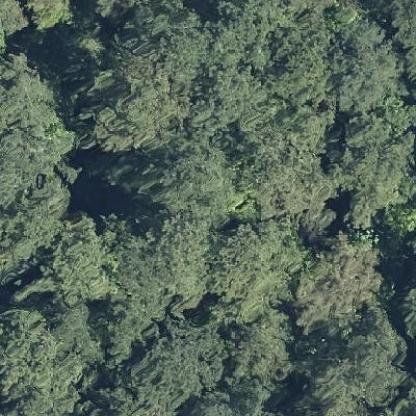tree-top: (0, 51, 72, 289), (208, 210, 312, 325), (2, 297, 102, 410), (302, 313, 402, 412), (298, 234, 380, 333), (223, 315, 293, 383)
